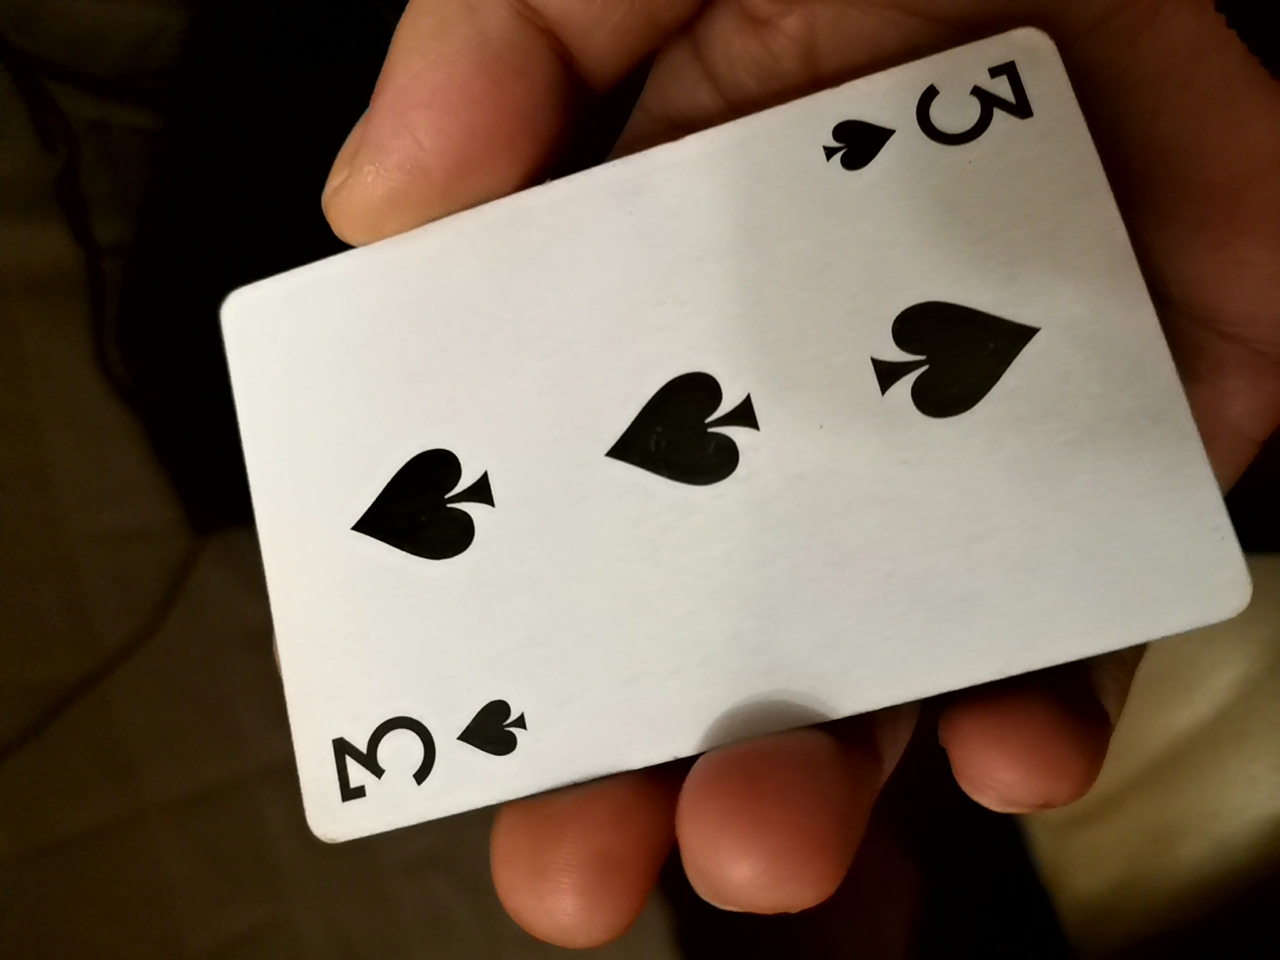ht 3: (183, 35, 1260, 870)
